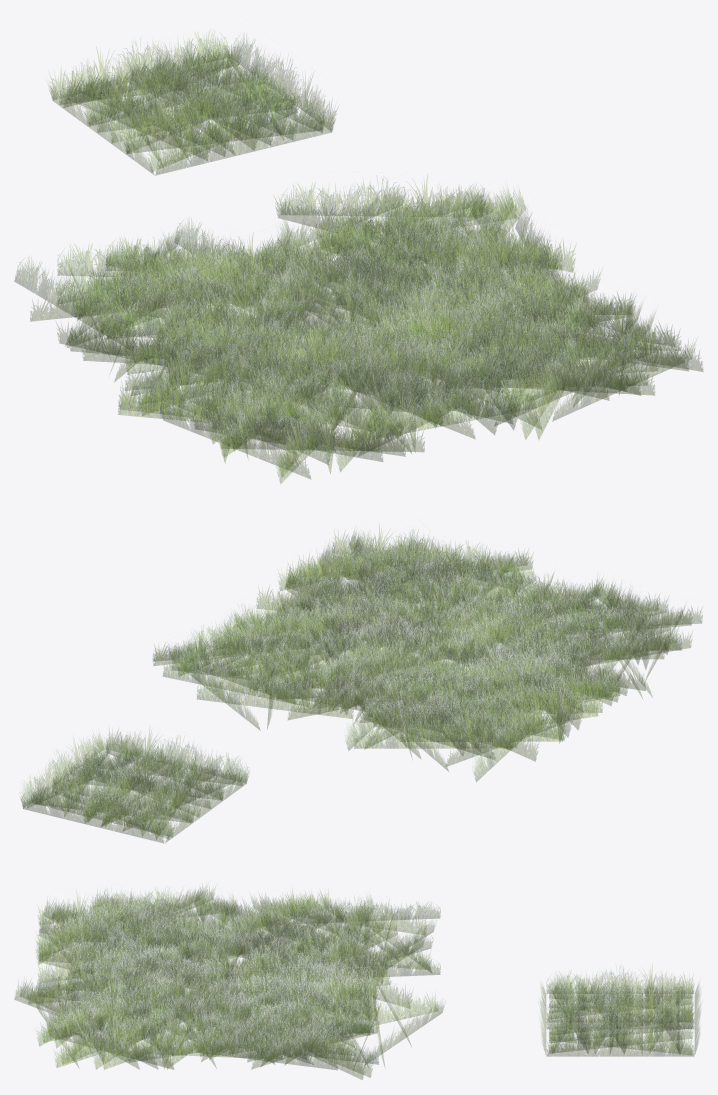
The model's file is piso.gltf.
3 renders of one model, top to bottom at view 1: azimuth 30°, elevation 25°; view 2: azimuth 150°, elevation 25°; view 3: azimuth 270°, elevation 25°, orthographic. The views are drawn at different scales.
Parts seen in each view (by area): view 1: PLANTAS; view 2: PLANTAS; view 3: PLANTAS.
Boxes of the visible parts, box(x1,y1,x2,y2) form: PLANTAS: box(14, 31, 703, 483); PLANTAS: box(20, 526, 702, 842); PLANTAS: box(14, 886, 700, 1079).
Size of what is drawn, in the model's own units: 10.69 by 0.7602 by 17.04.
Materials: 1 (1 with a texture image).
